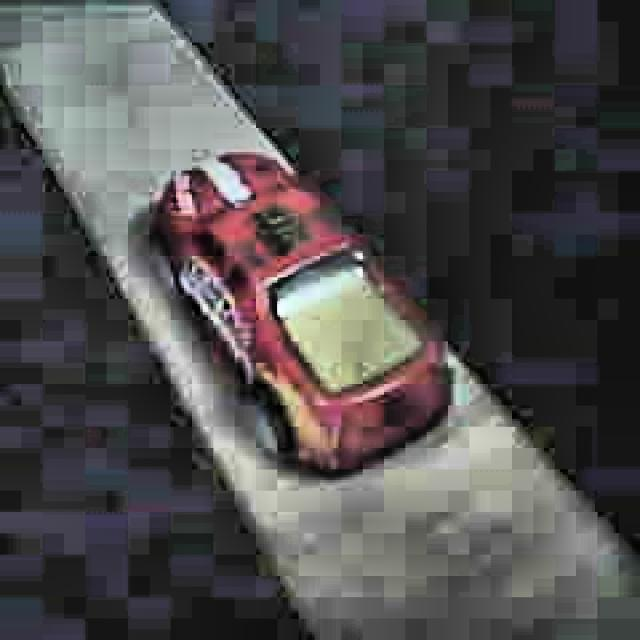car: (144, 149, 458, 483)
